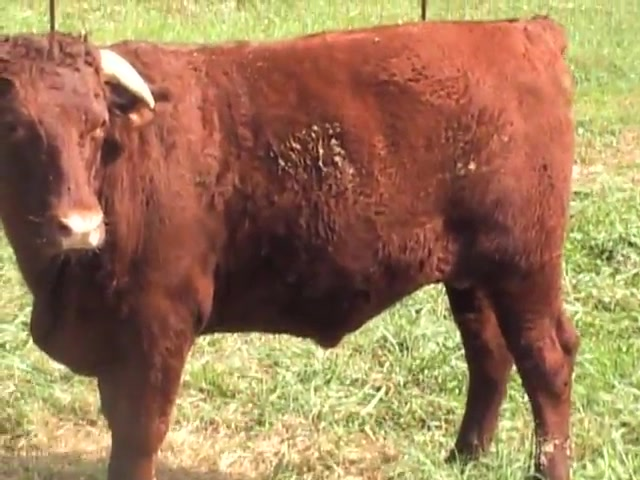cow: (1, 16, 583, 480)
